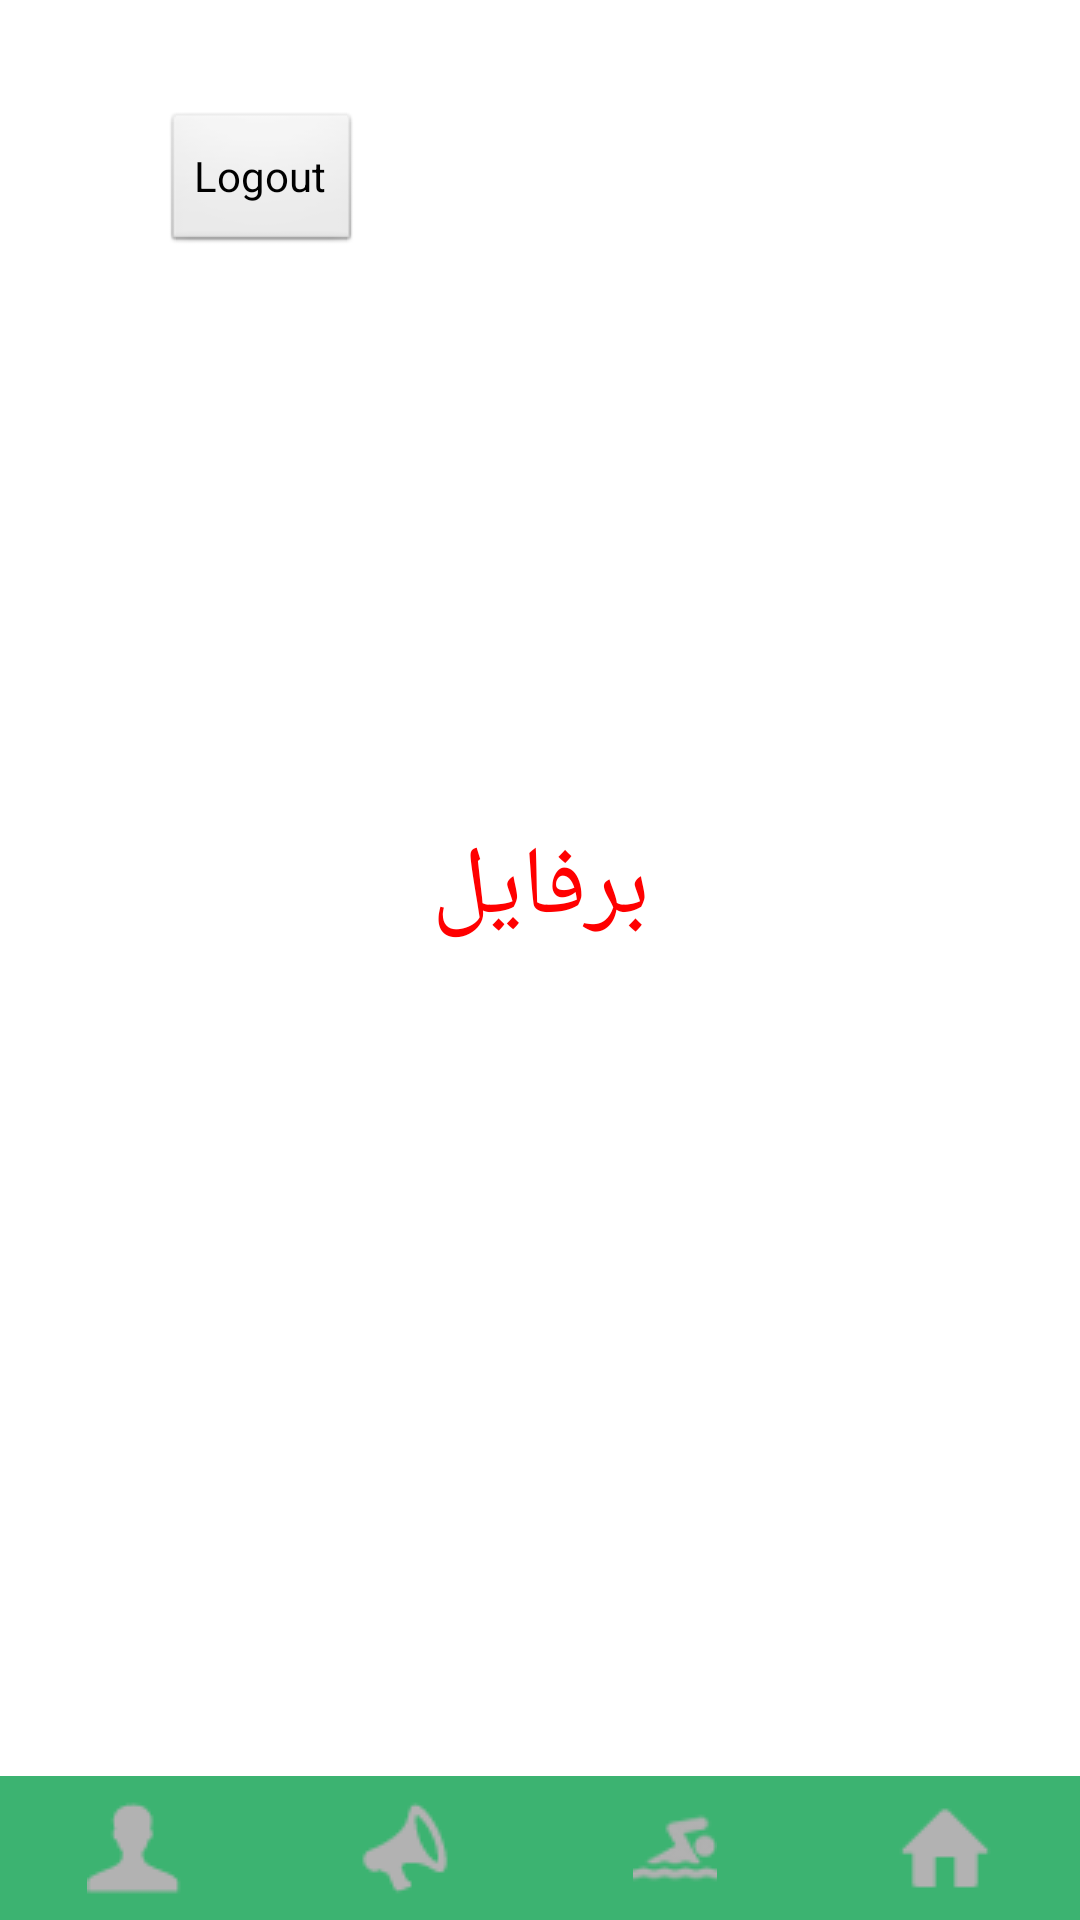

Named icons in this screenshot (1080px×1920px) and their centers, (x,y):
house: (945,1848)
megaphone: (405,1848)
swim: (675,1848)
user: (133,1848)
